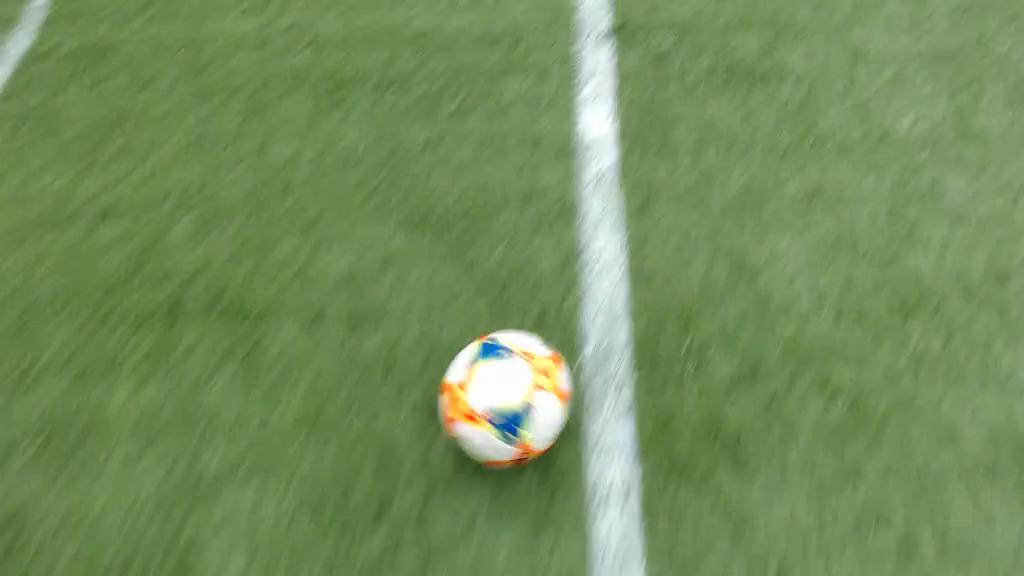ball: (439, 330, 575, 467)
